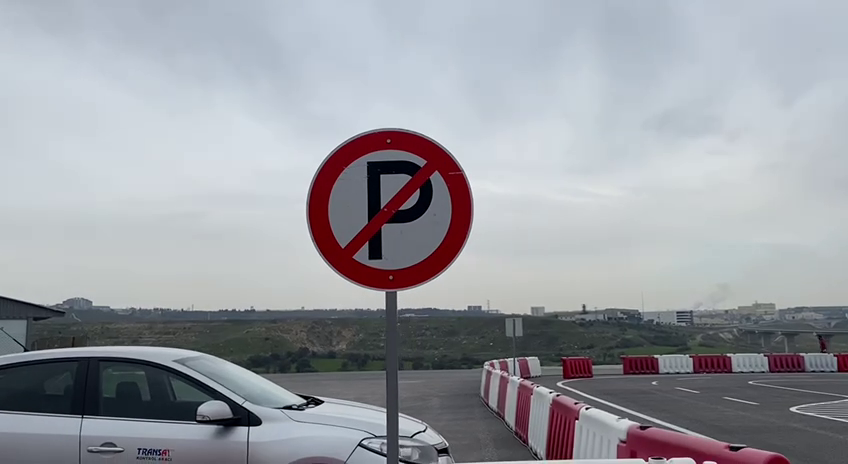noparking: (299, 118, 479, 297)
